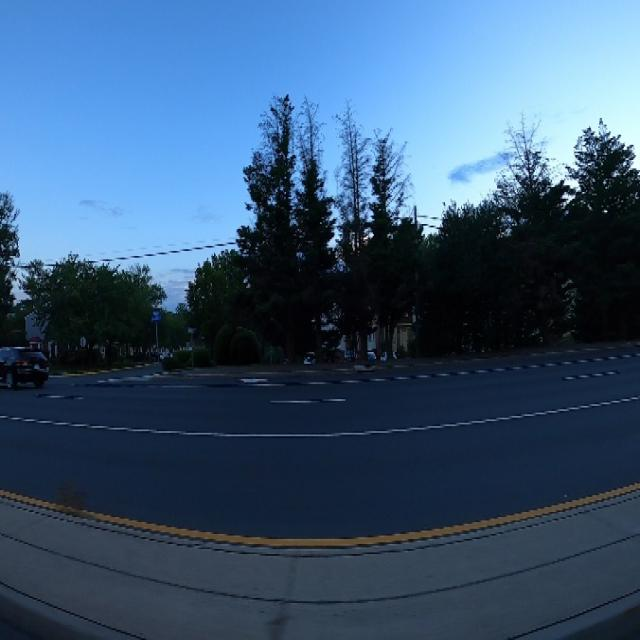cars: (0, 333, 54, 397)
